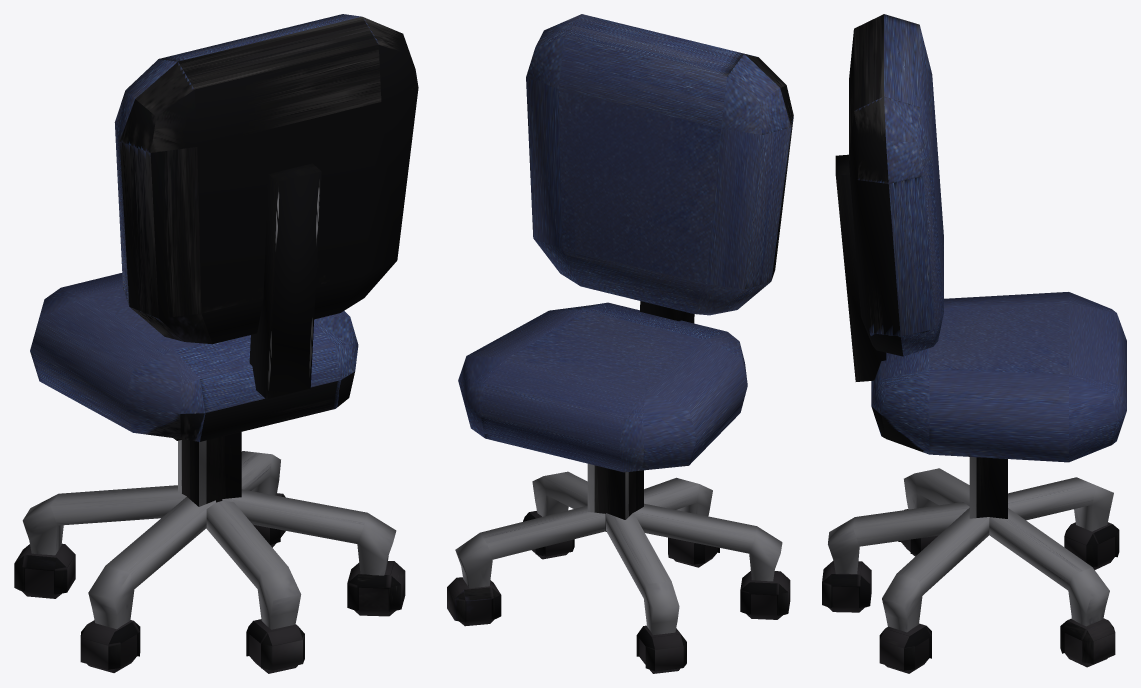
The model's file is Company_chair.fbx.
The picture shows the model from 3 angles, left to right: view 1: azimuth 30°, elevation 25°; view 2: azimuth 150°, elevation 25°; view 3: azimuth 270°, elevation 25°; orthographic projection. The views are drawn at different scales.
Visible parts, largest first — view 1: Box247; view 2: Box247; view 3: Box247.
Part boxes in pixels (<box>): Box247: <box>14,14,418,673</box>; Box247: <box>447,14,793,673</box>; Box247: <box>822,14,1126,673</box>.
Size of the model in its own units: 0.6707 by 1.24 by 0.6154.
Materials: 2 (2 with a texture image).
